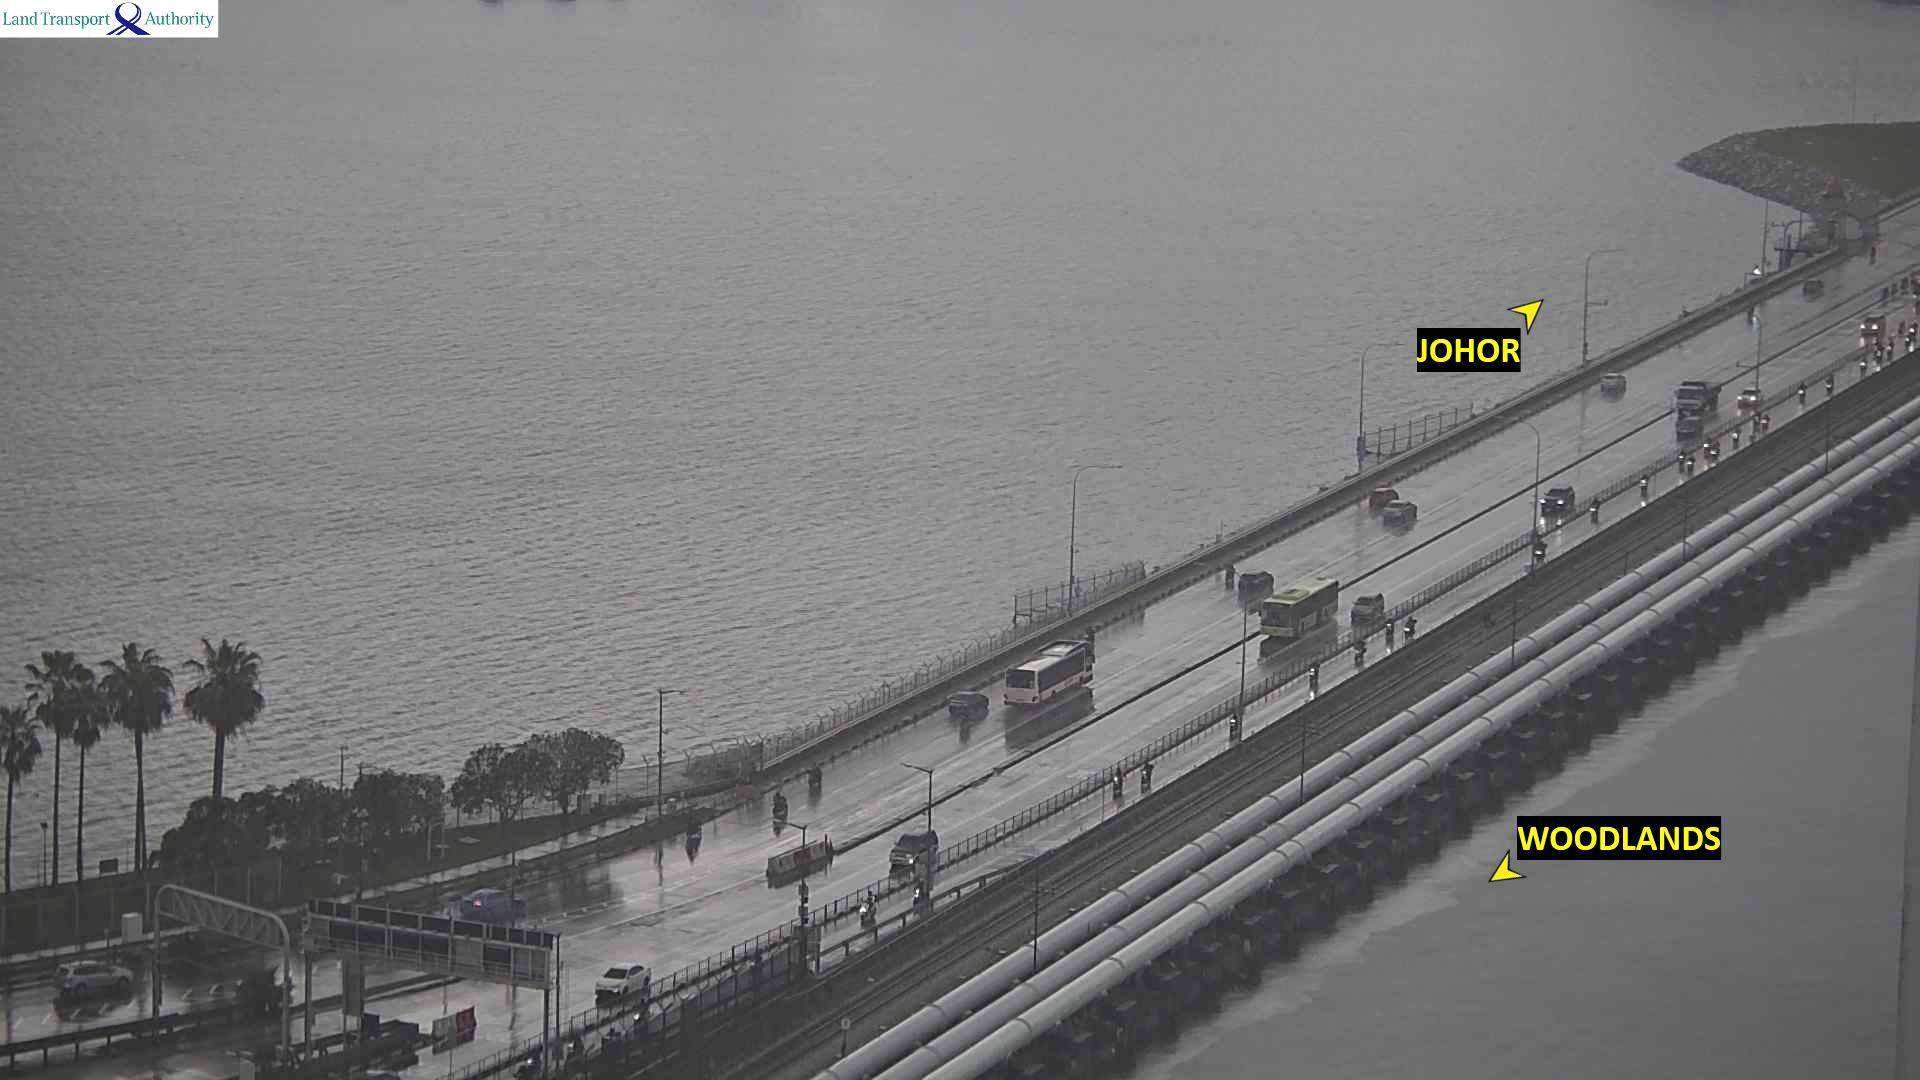vehicle-causeway-johor: (1010, 645, 1095, 704), (461, 893, 524, 915), (949, 692, 989, 719), (1239, 569, 1274, 592), (1383, 500, 1418, 521), (1600, 371, 1625, 396), (1377, 483, 1398, 509), (774, 791, 787, 826), (1802, 280, 1822, 298), (808, 761, 823, 785), (1226, 560, 1233, 581)
vehicle-causeway-singapore: (1260, 575, 1339, 637), (1350, 591, 1384, 620), (1351, 638, 1366, 661), (1404, 615, 1417, 634)
